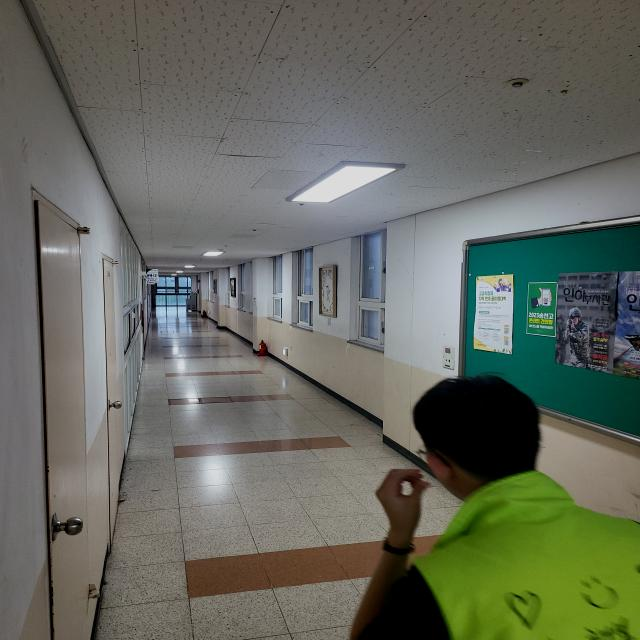weston_spy: (398, 469, 640, 640)
